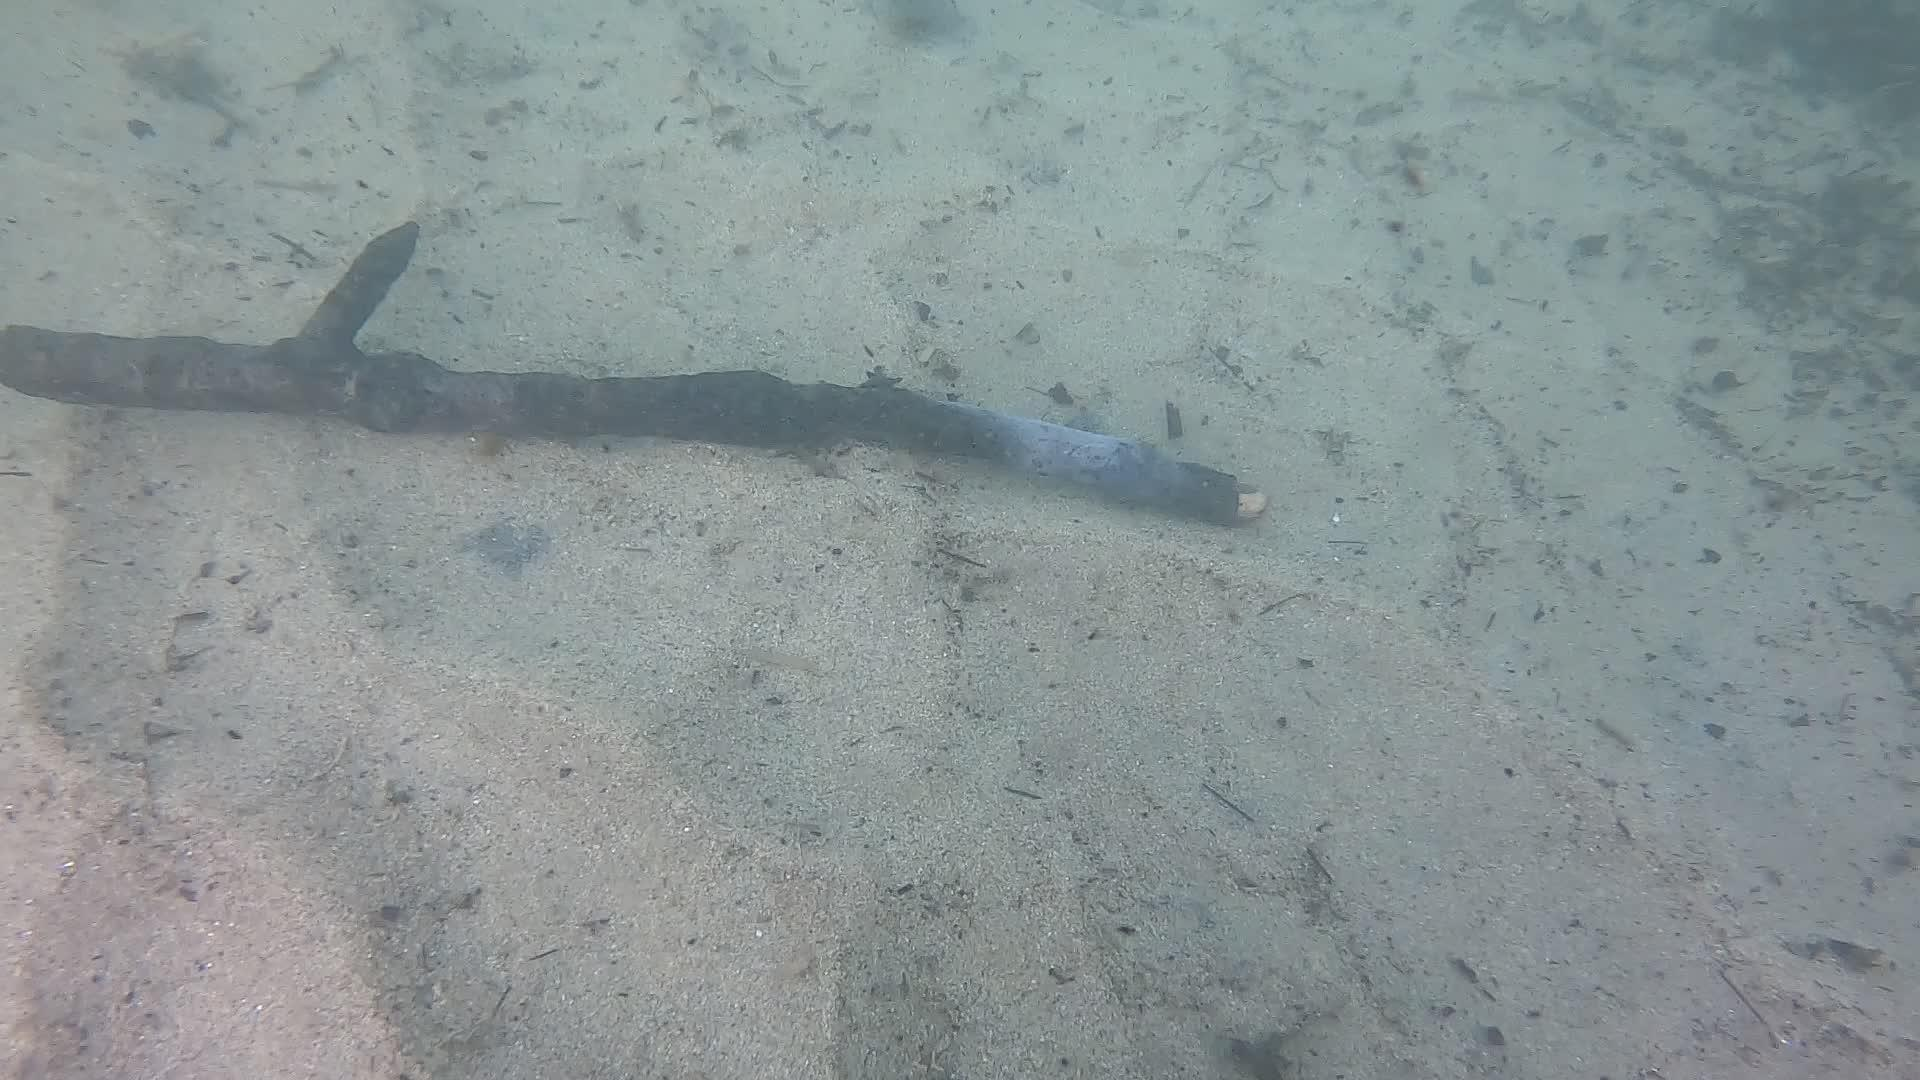wood: (0, 218, 1269, 525)
